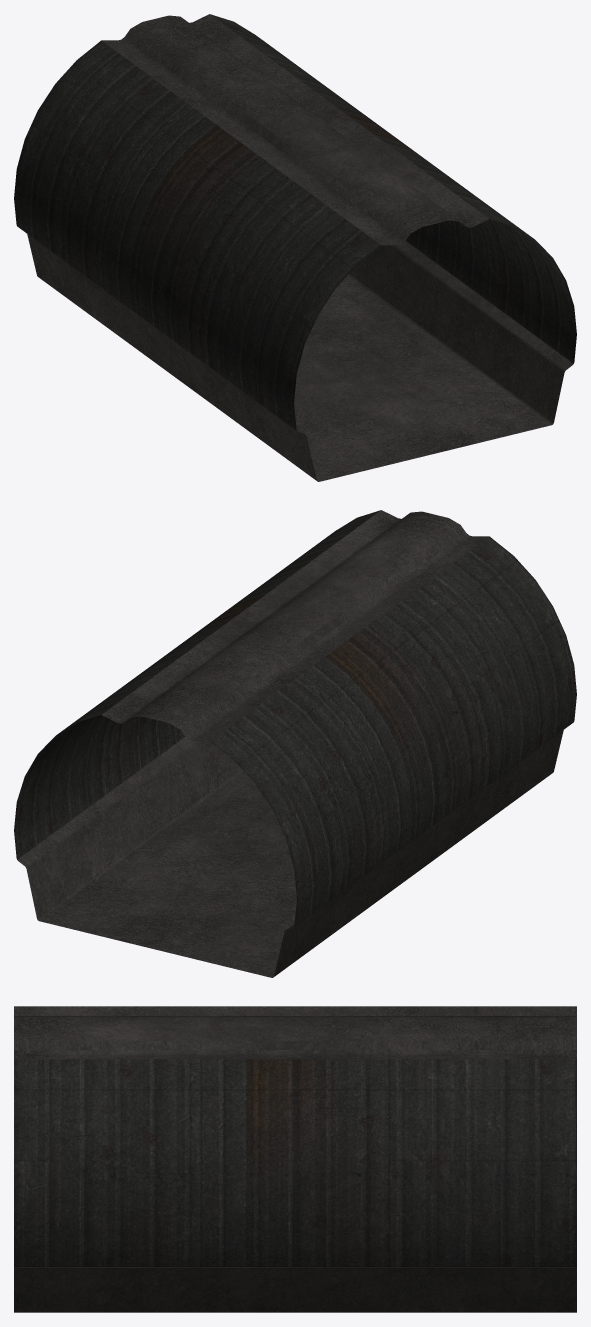
The model's file is tunnel_straight.fbx.
3 views of the same model, one above another, from view 1: azimuth 30°, elevation 25°; view 2: azimuth 150°, elevation 25°; view 3: azimuth 270°, elevation 25° (orthographic).
Parts seen in each view (by area): view 1: tunnel_straight; view 2: tunnel_straight; view 3: tunnel_straight.
Boxes of the visible parts, left/top/right/bottom form: tunnel_straight: left=14, top=14, right=576, bottom=481; tunnel_straight: left=14, top=510, right=576, bottom=977; tunnel_straight: left=14, top=1006, right=576, bottom=1312.
Size of the model in its own units: 3.5 by 6 by 2.72.
